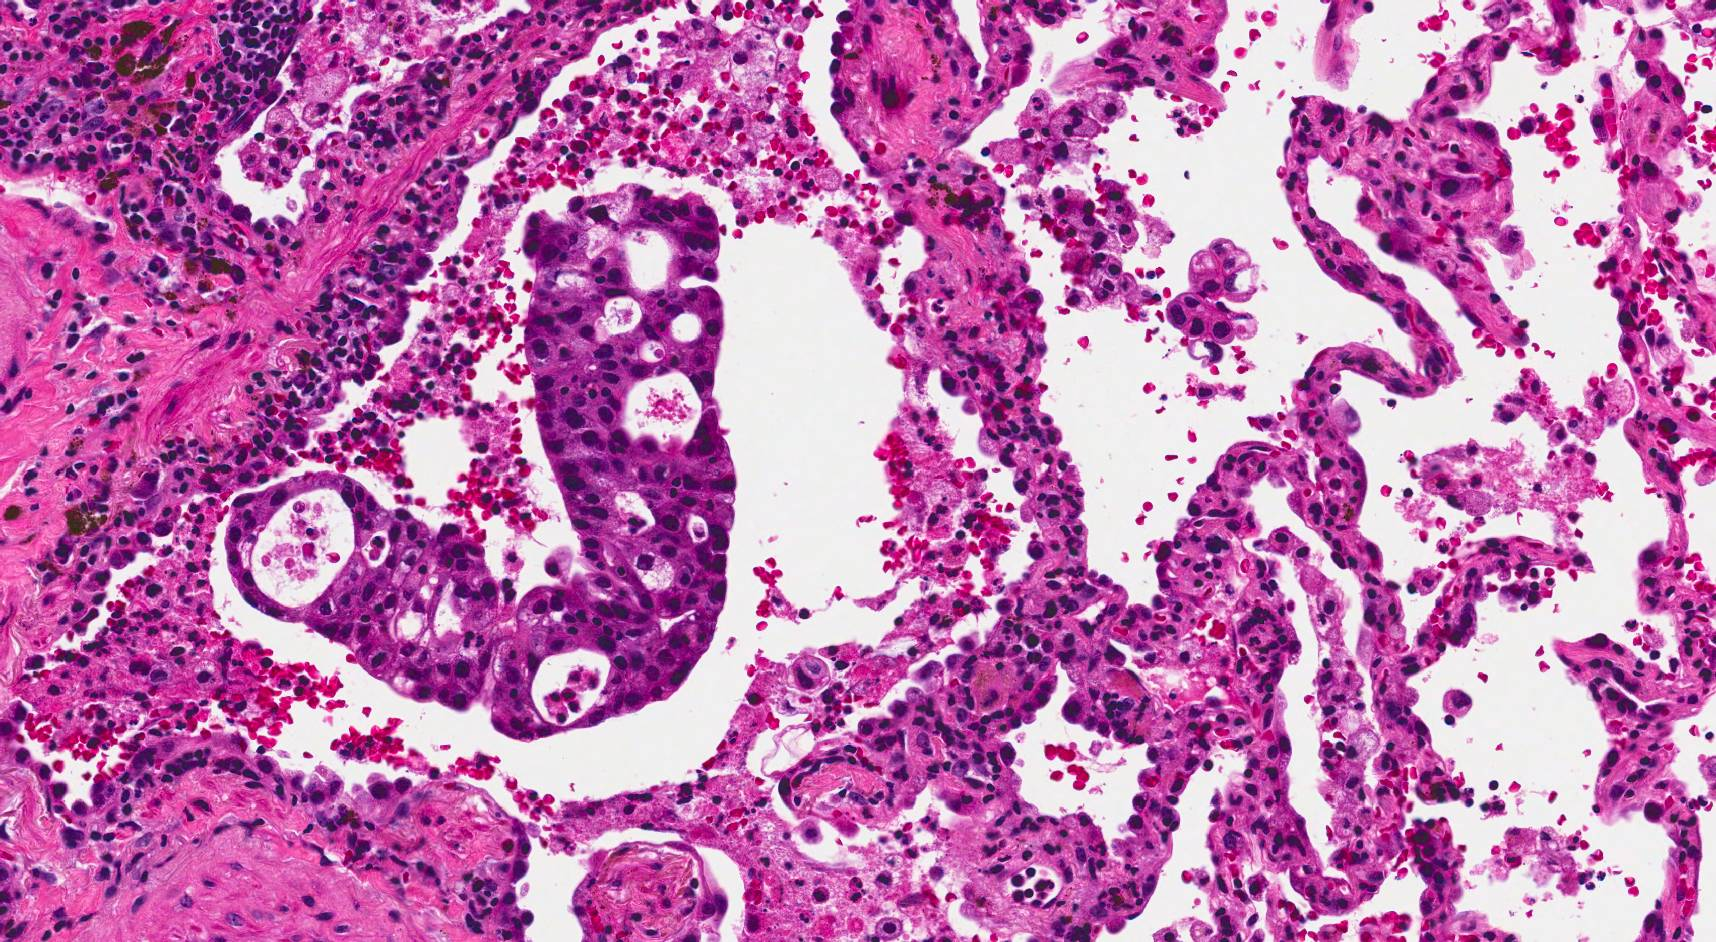stas: (220, 188, 738, 743), (1165, 237, 1260, 365)
